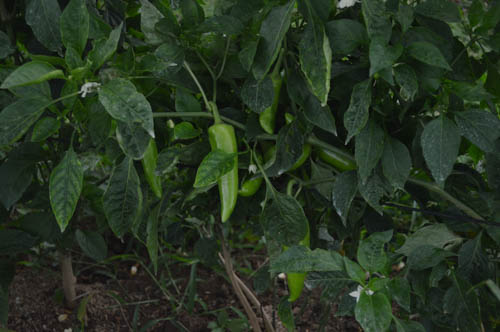ChiliPepper: (206, 124, 238, 224), (284, 236, 307, 296), (259, 76, 282, 128), (139, 142, 161, 194)
